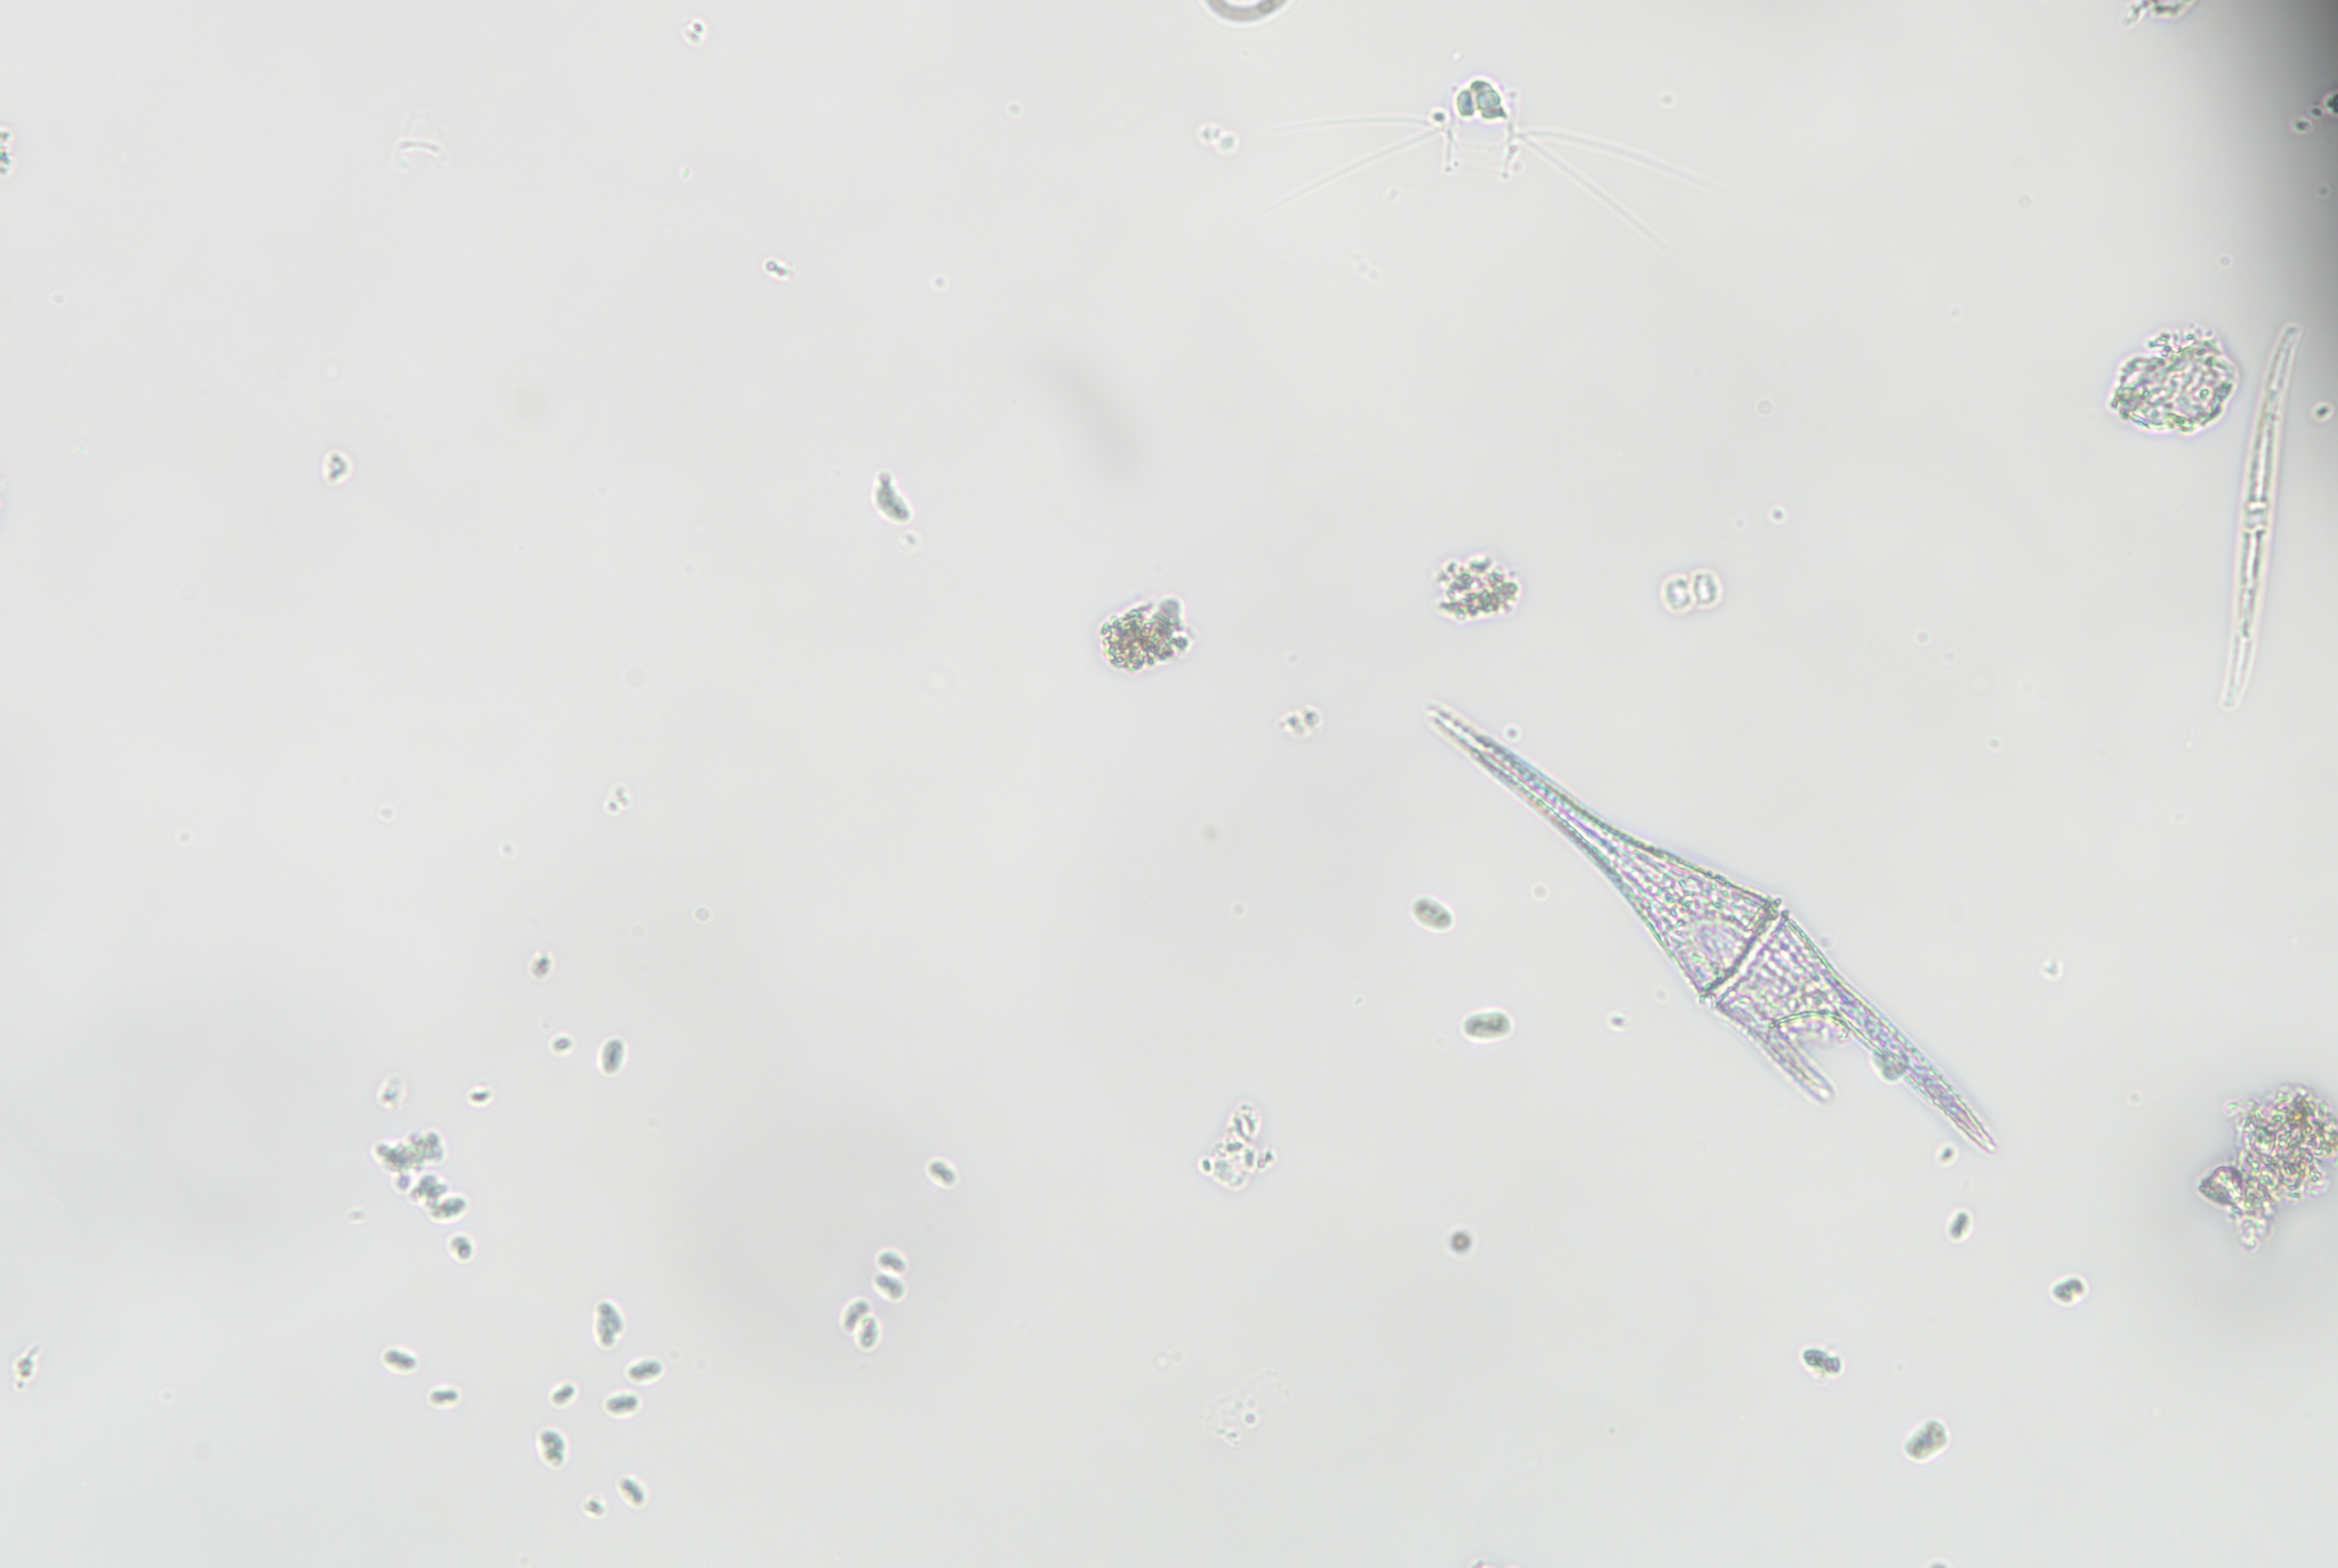ceratium furca: (1428, 691, 2054, 1195)
pleurosigma pelagicum: (2226, 313, 2303, 728)
